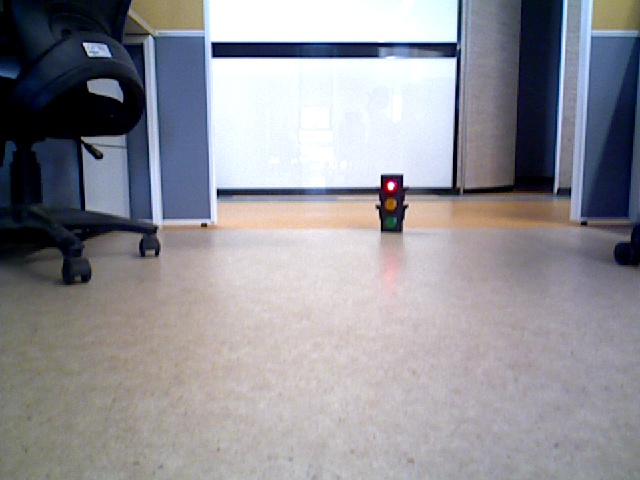red: (379, 177, 400, 228)
